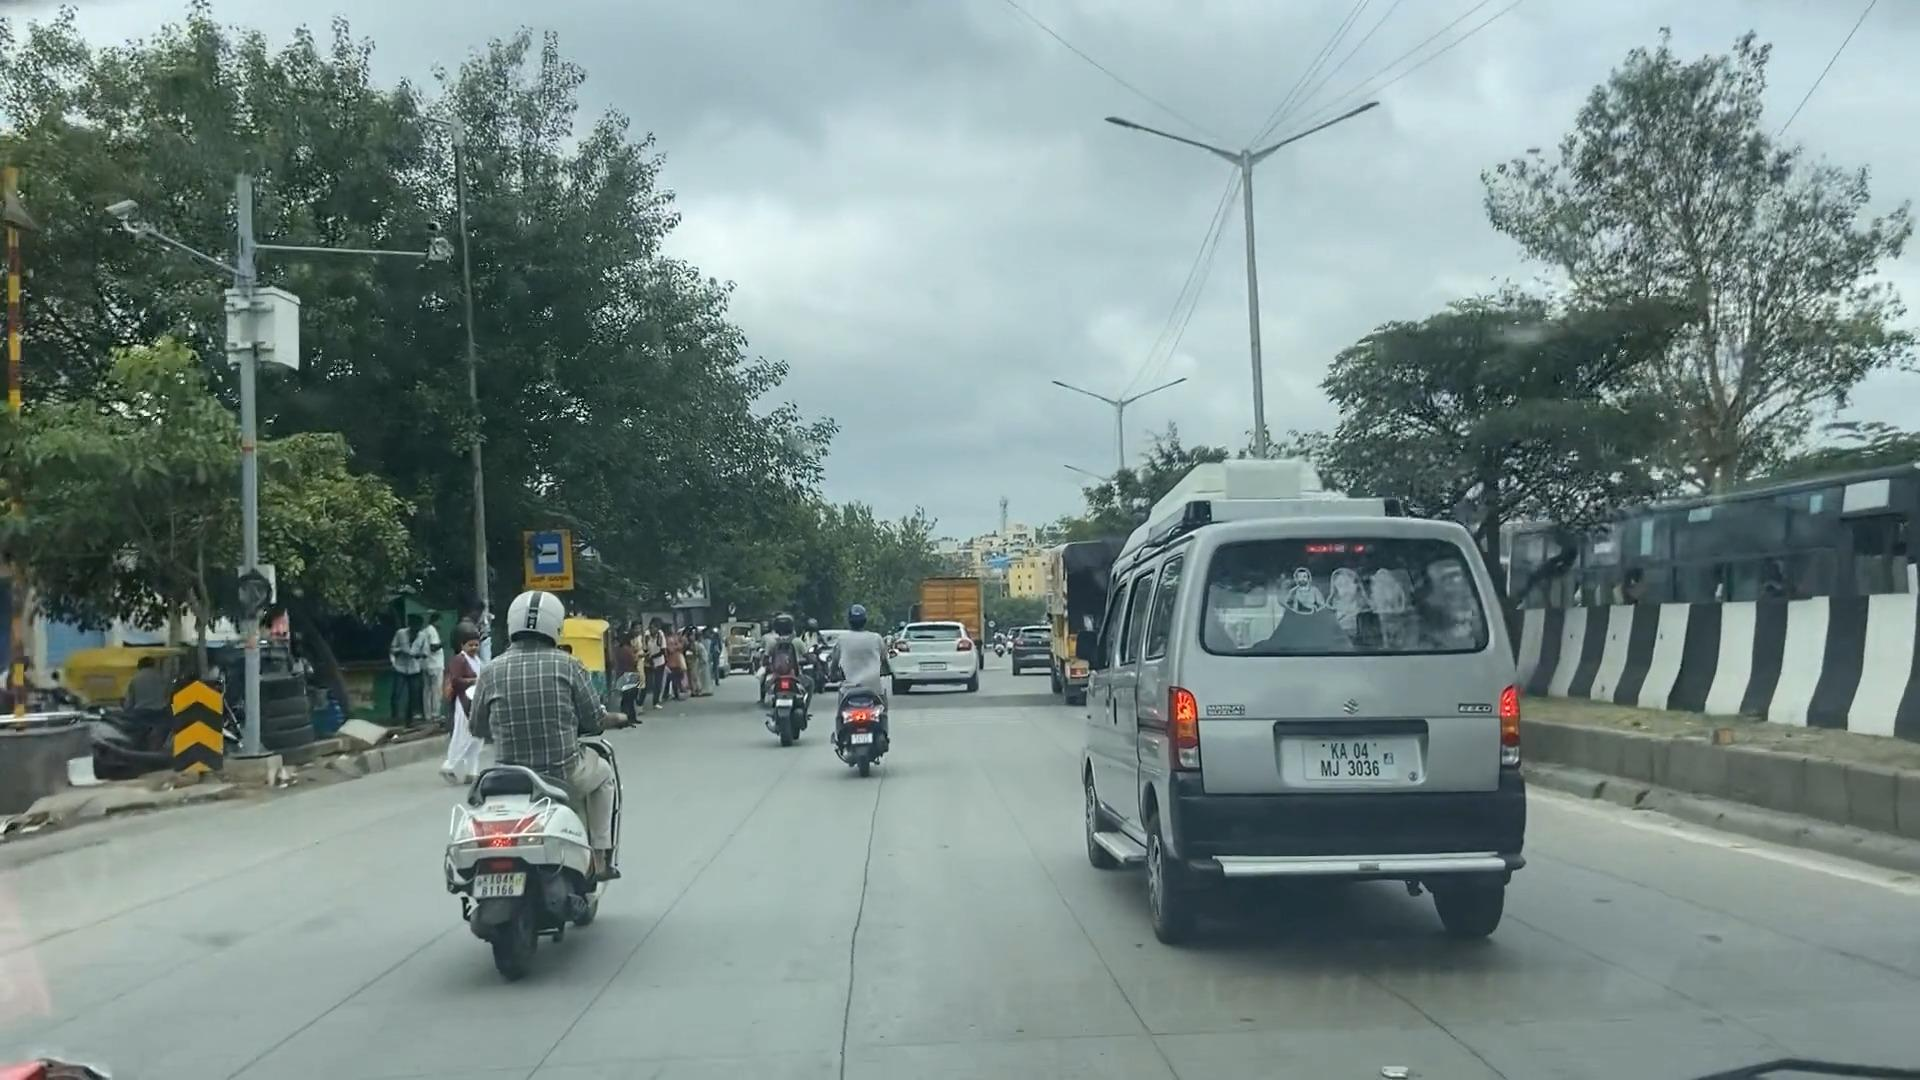LMV: (1065, 533, 1545, 967), (443, 603, 625, 990)
